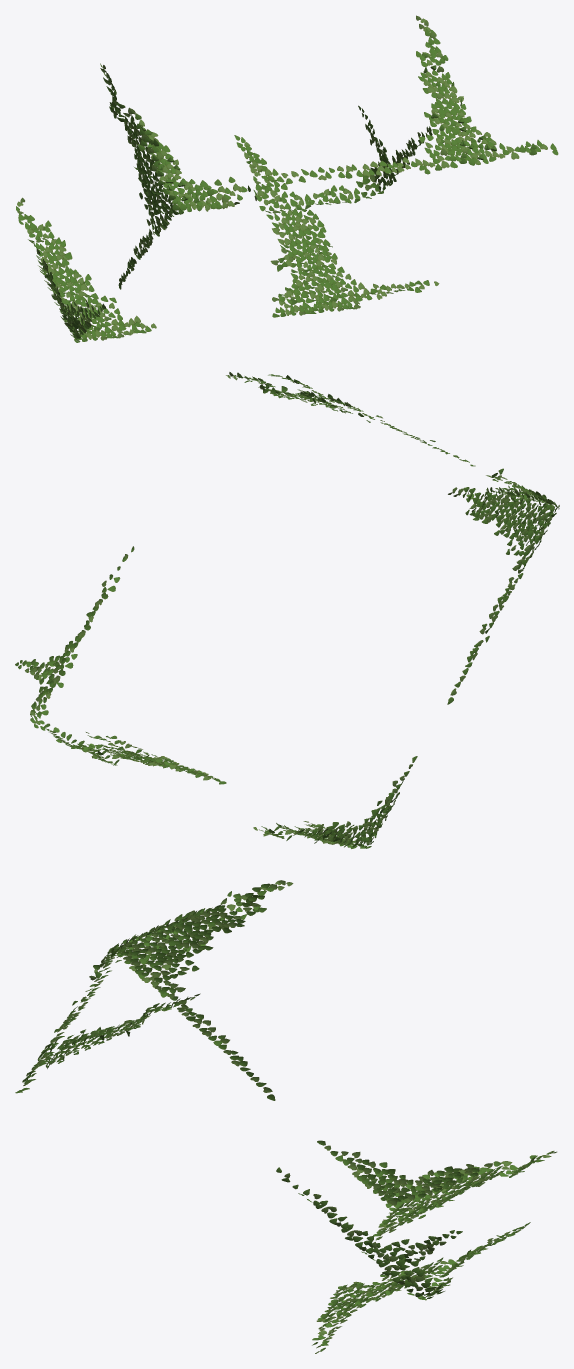
The model's file is Ivy.glb.
3 views of the same model, one above another, from view 1: azimuth 30°, elevation 25°; view 2: azimuth 150°, elevation 25°; view 3: azimuth 270°, elevation 25° (orthographic). The views are drawn at different scales.
Parts seen in each view (by area): view 1: Ivy; view 2: Ivy; view 3: Ivy.
Boxes of the visible parts, bbox=[...] form: Ivy: bbox=[16, 15, 558, 342]; Ivy: bbox=[15, 372, 559, 848]; Ivy: bbox=[15, 880, 556, 1353].
Size of the model in its own units: 18.45 by 16.21 by 24.19.
1 material, 1 textured.
